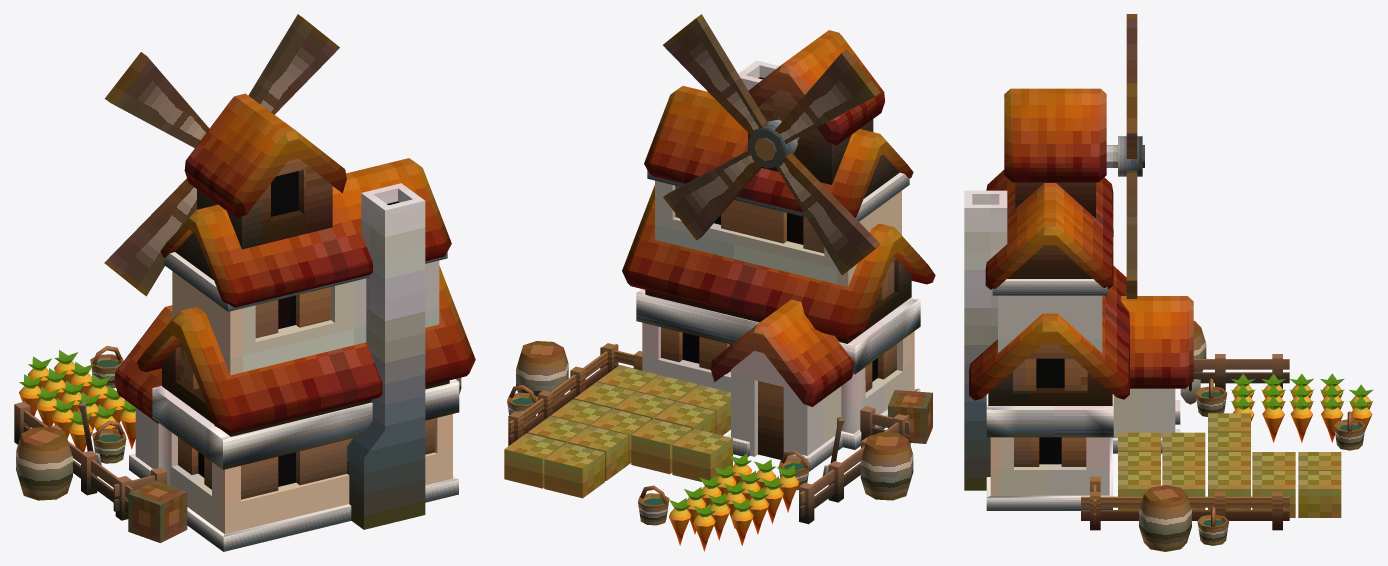
Rendered from simple_low_poly_farm_lvl7.glb.
3 renders of one model, left to right at view 1: azimuth 30°, elevation 25°; view 2: azimuth 150°, elevation 25°; view 3: azimuth 270°, elevation 25°, orthographic. The views are drawn at different scales.
Parts seen in each view (by area): view 1: farm_lvl7_Material #25_0; view 2: farm_lvl7_Material #25_0; view 3: farm_lvl7_Material #25_0.
Boxes of the visible parts, x1,y1,x2,y2 form: farm_lvl7_Material #25_0: (14,14,475,551); farm_lvl7_Material #25_0: (504,14,935,551); farm_lvl7_Material #25_0: (964,14,1373,551).
Size of the model in its own units: 8.32 by 8.36 by 7.61.
Materials: 1 (1 with a texture image).
